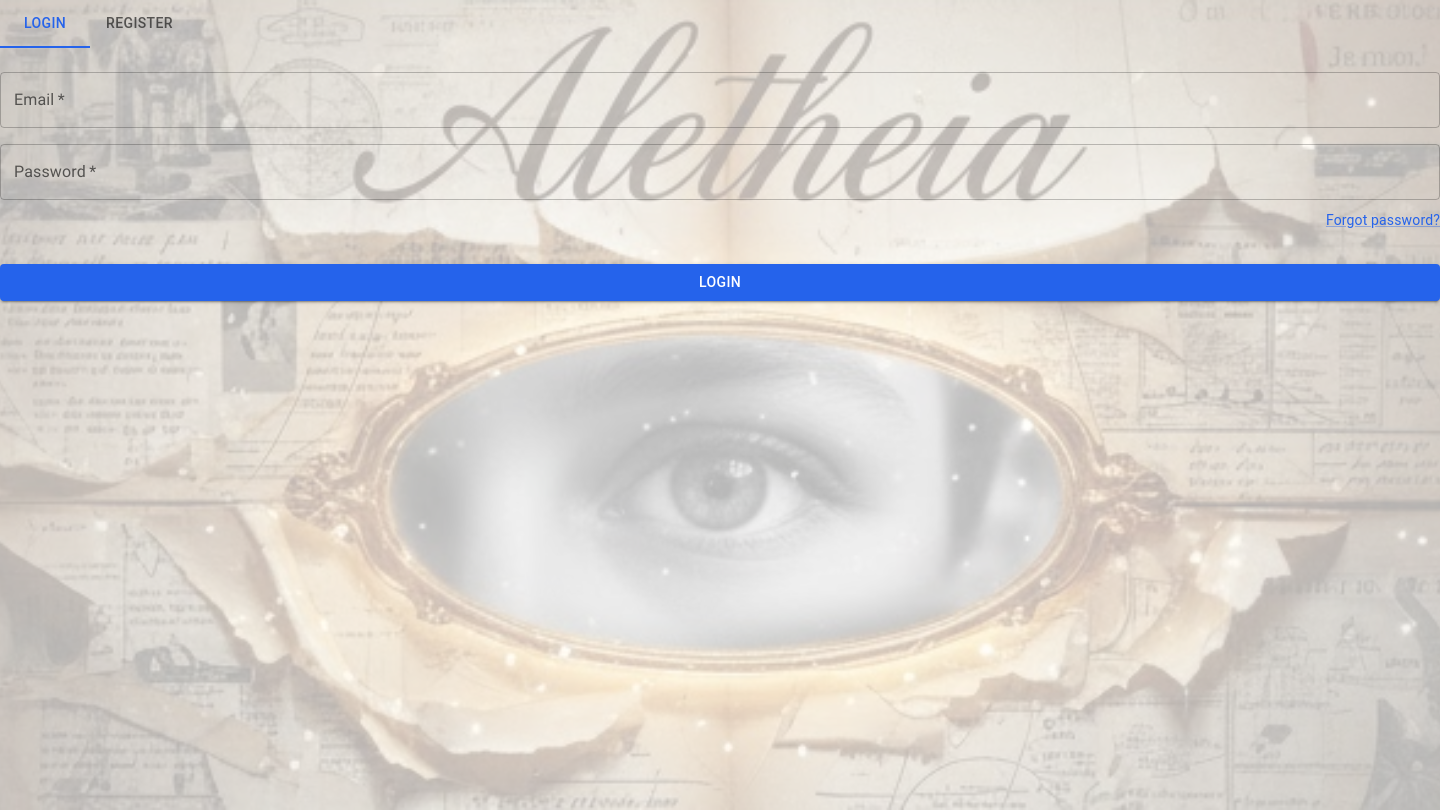
Scenario: LoginForm Error Paths › should handle dismissible error alerts
In the field labelled "Email *": (720, 100) [0,72,1439,128], type "test@example.com"
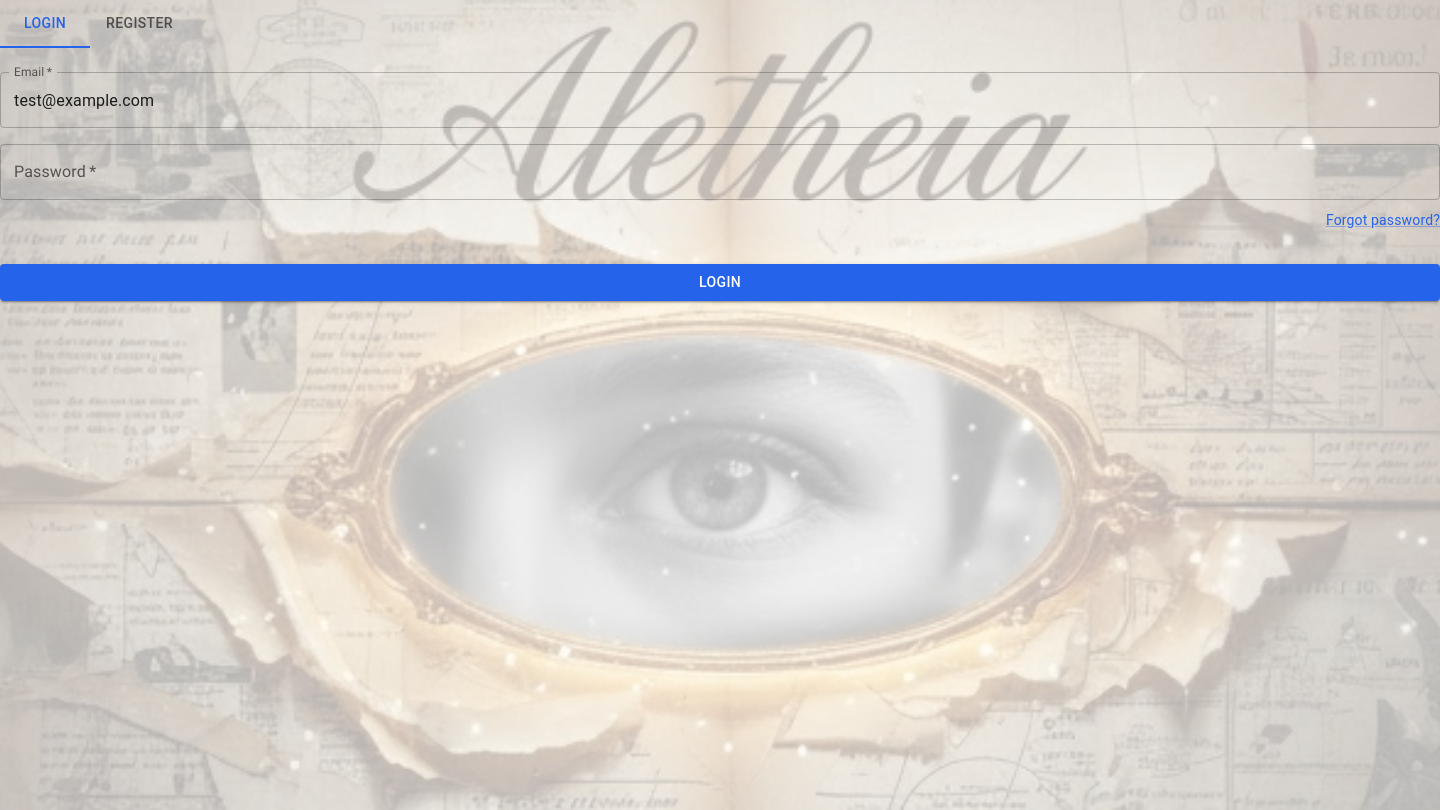
In the password field labelled "Password *": (720, 172) [0,144,1439,200], type "password123"
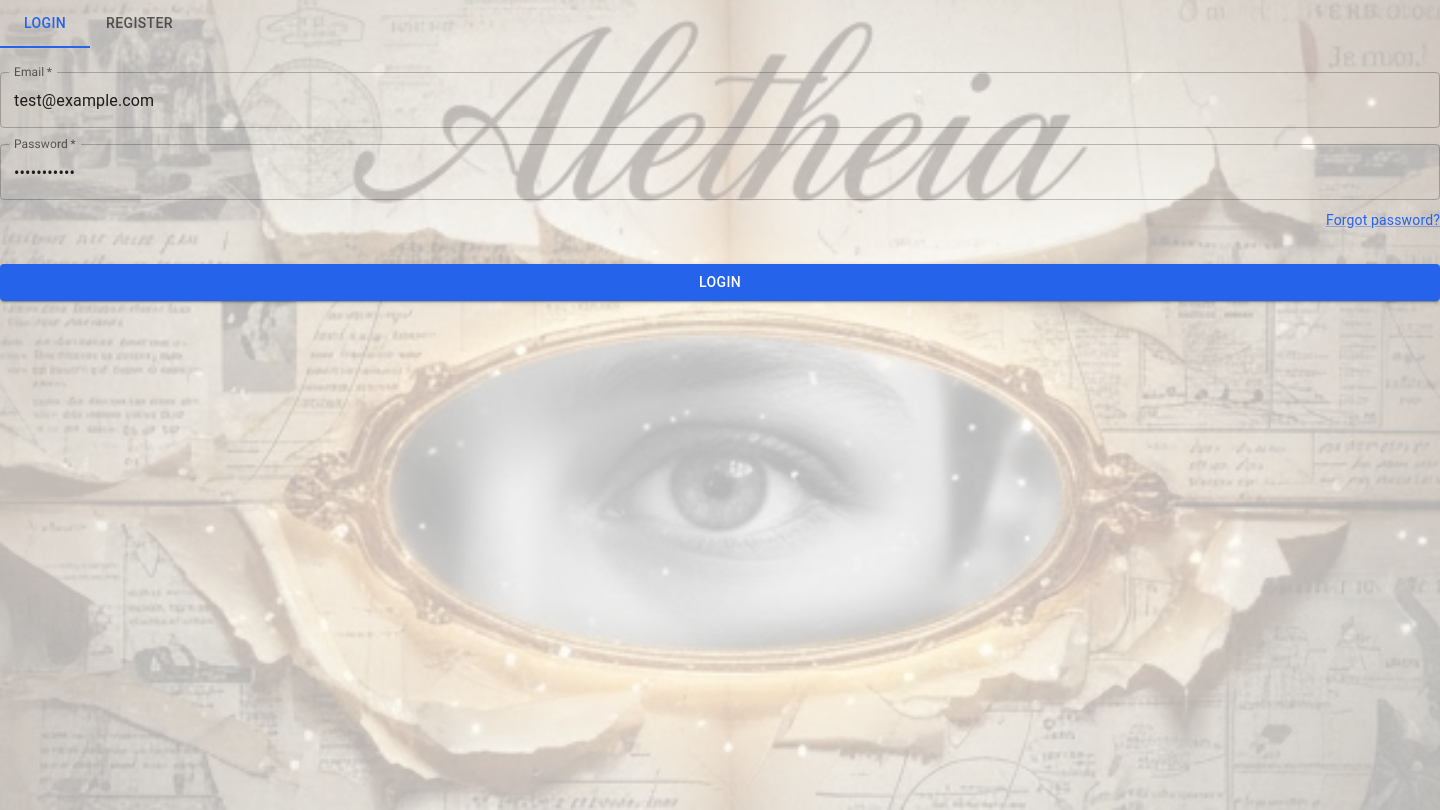
Click the button "Login": (720, 282) [0,264,1439,300]
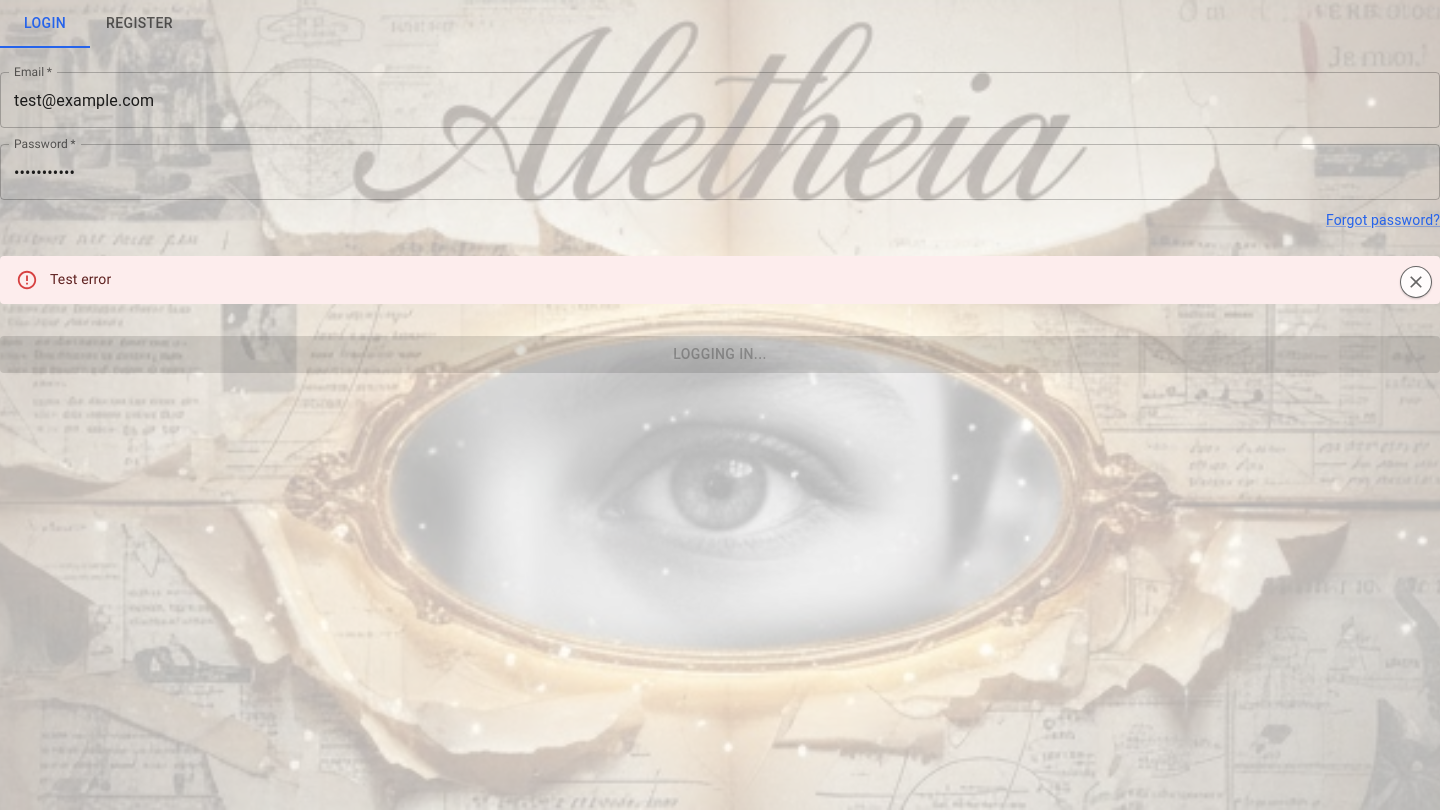
expect the text "Test error" is shown: met, box [50,272,111,288]
// Dismiss error
Click the button named "close": (1416, 282) [1400,266,1432,298]
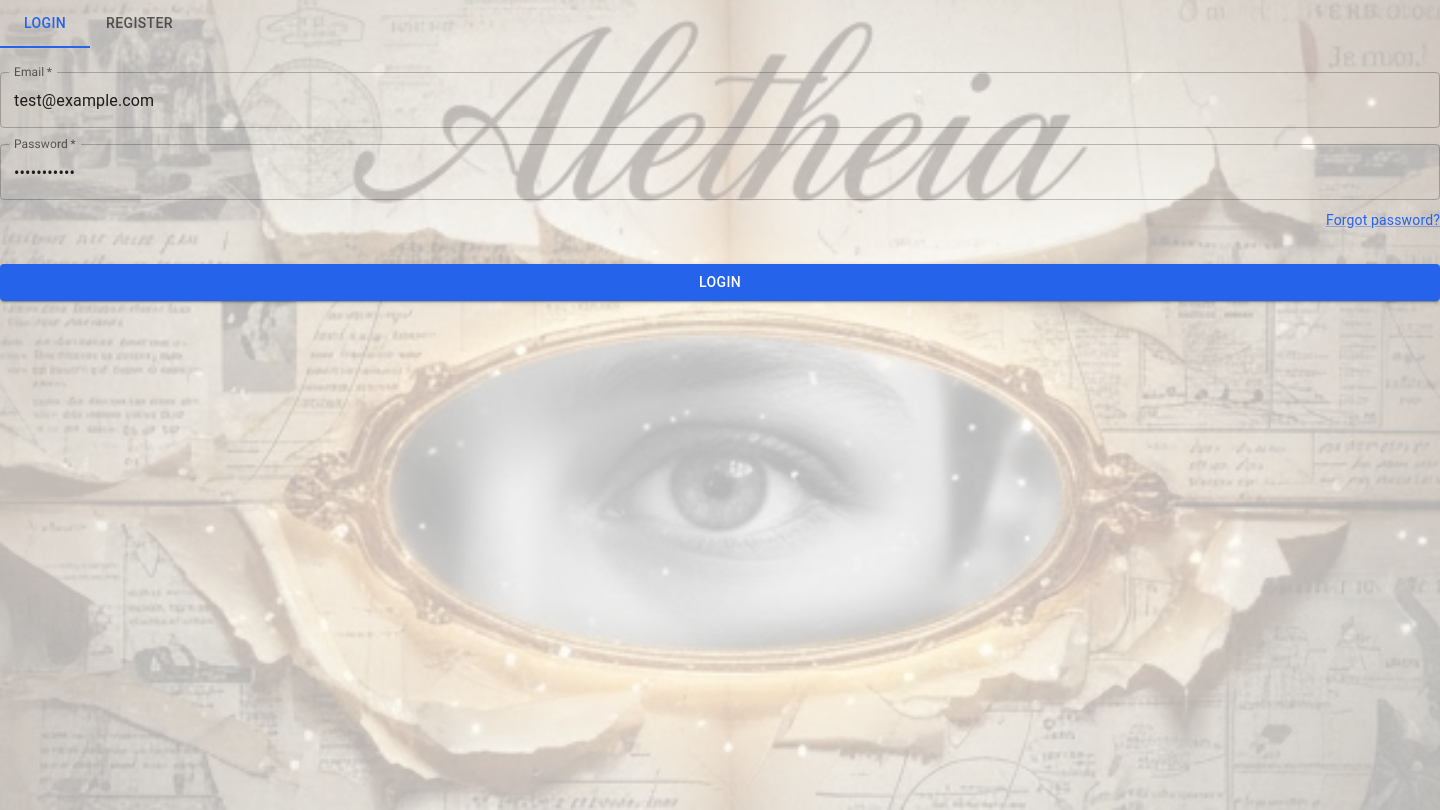
expect the text "Test error" is gone: met
